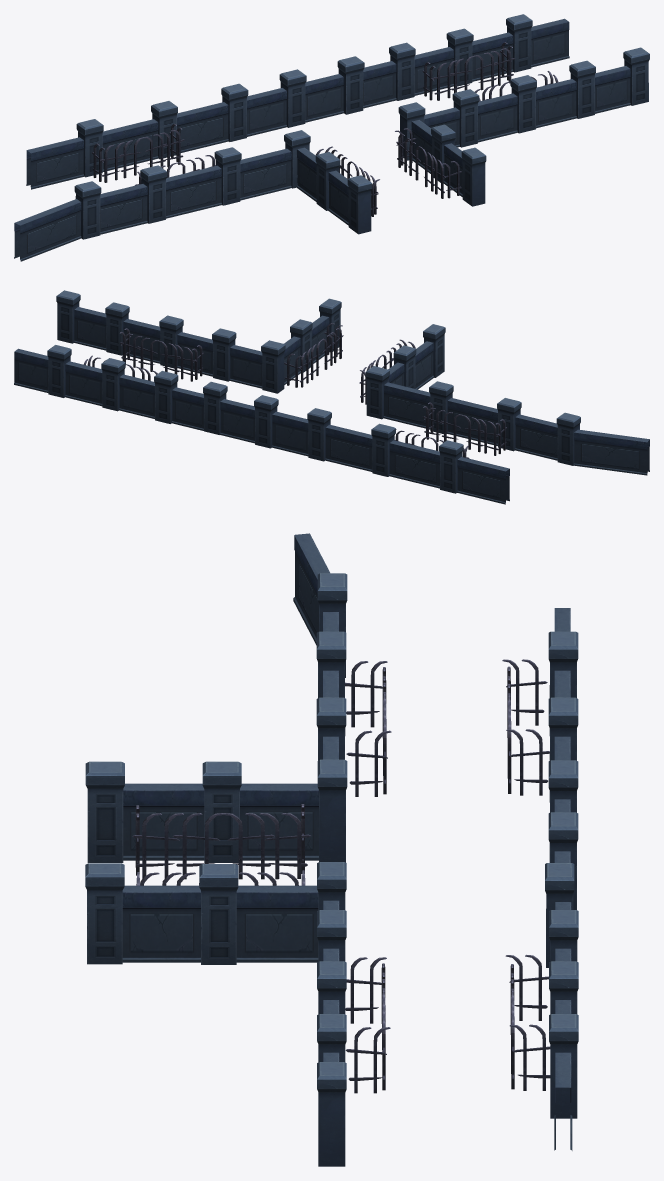
The model's file is Area_08_5.fbx.
3 renders of one model, top to bottom at view 1: azimuth 30°, elevation 25°; view 2: azimuth 150°, elevation 25°; view 3: azimuth 270°, elevation 25°, orthographic. The views are drawn at different scales.
Parts seen in each view (by area): view 1: Area_08_5; view 2: Area_08_5; view 3: Area_08_5.
Boxes of the visible parts, x1,y1,x2,y2 form: Area_08_5: (14,14,649,261); Area_08_5: (14,290,649,504); Area_08_5: (85,533,578,1166).
Size of the model in its own units: 8671 by 643 by 3182.
